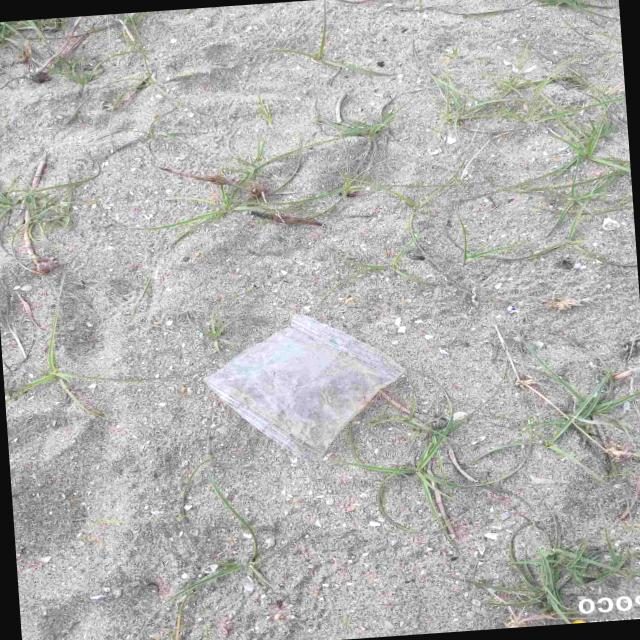hop_nhua: (207, 316, 404, 455)
